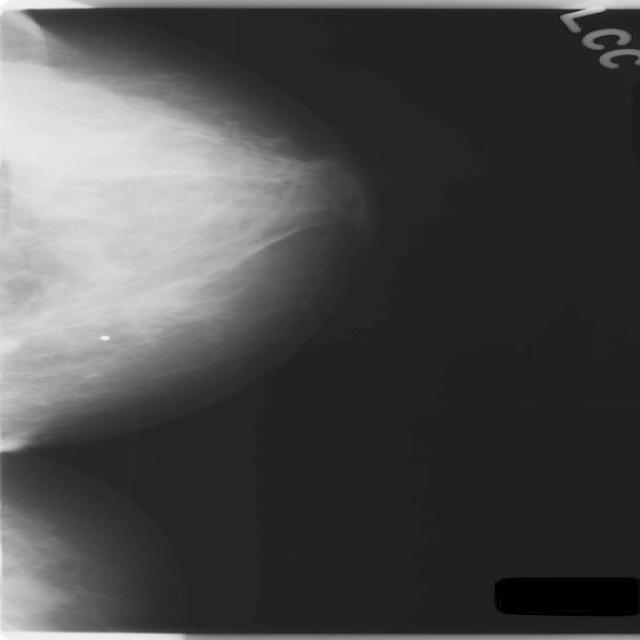tumour: (0, 333, 23, 353)
